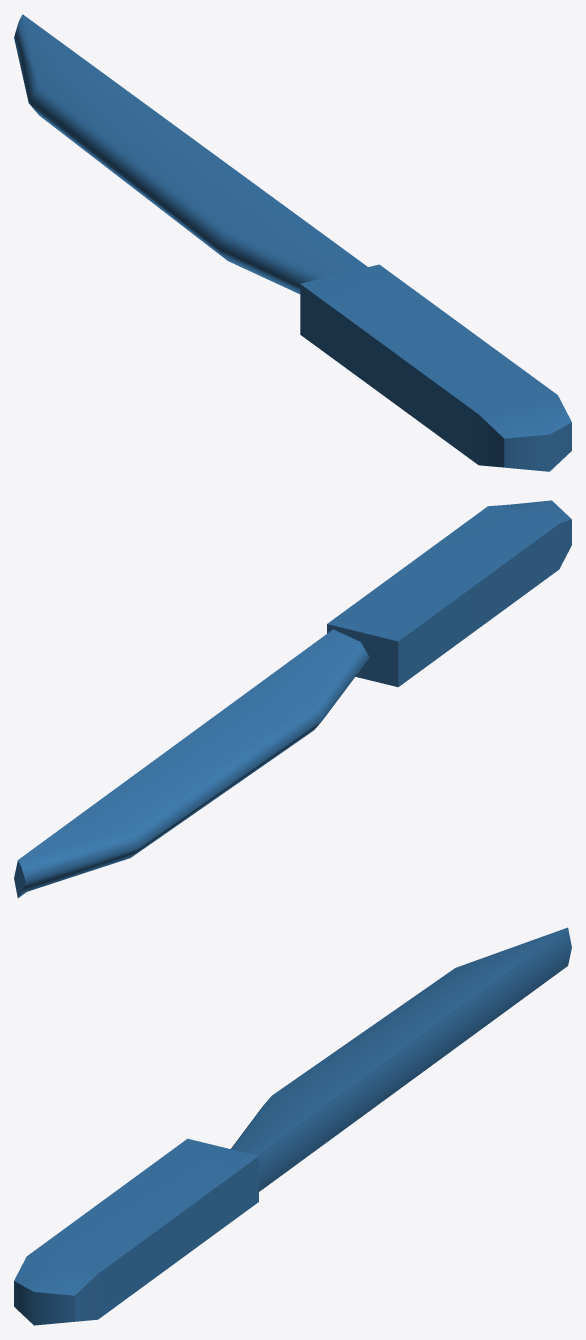
The model's file is cuchillo.fbx.
3 renders of one model, top to bottom at view 1: azimuth 30°, elevation 25°; view 2: azimuth 150°, elevation 25°; view 3: azimuth 330°, elevation 25°, orthographic. The views are drawn at different scales.
Parts seen in each view (by area): view 1: pCube282; view 2: pCube282; view 3: pCube282.
Part boxes in pixels (x1,y1,x2,y2): pCube282: (14, 14, 571, 471); pCube282: (14, 500, 571, 897); pCube282: (14, 927, 571, 1325).
Size of the model in its own units: 0.0151 by 0.00928 by 0.1851.
